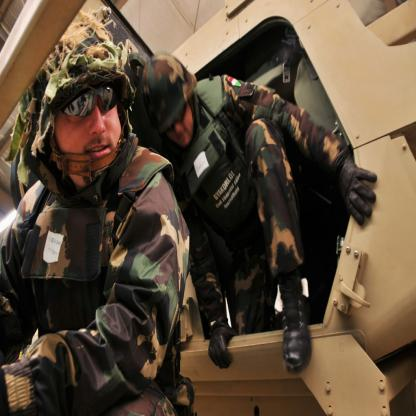Helmet: (17, 46, 144, 202), (137, 54, 198, 154)
